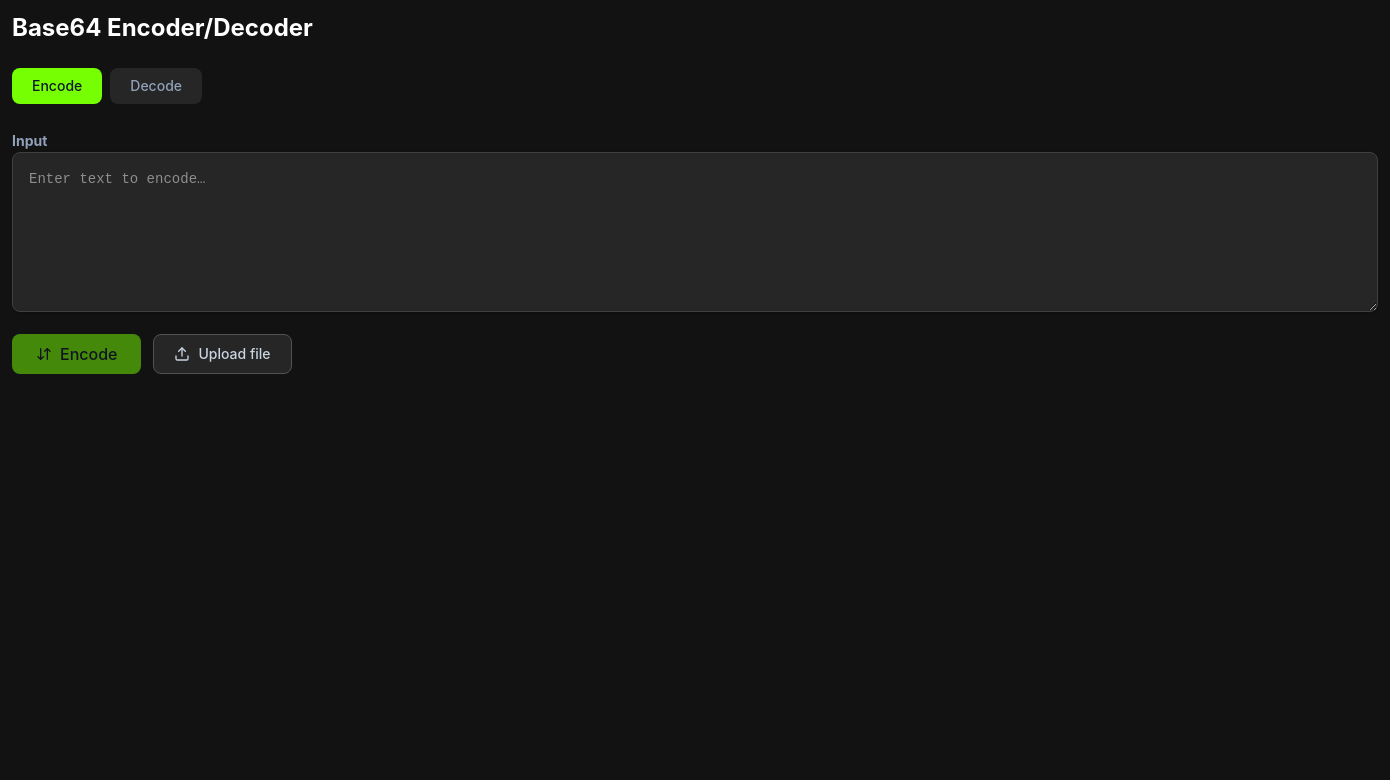
Base64Tool › handles text decoding and displays as text
Switch to decode tab (first button named "decode")
Click the button "decode": x=156, y=86 [110,68,202,104]
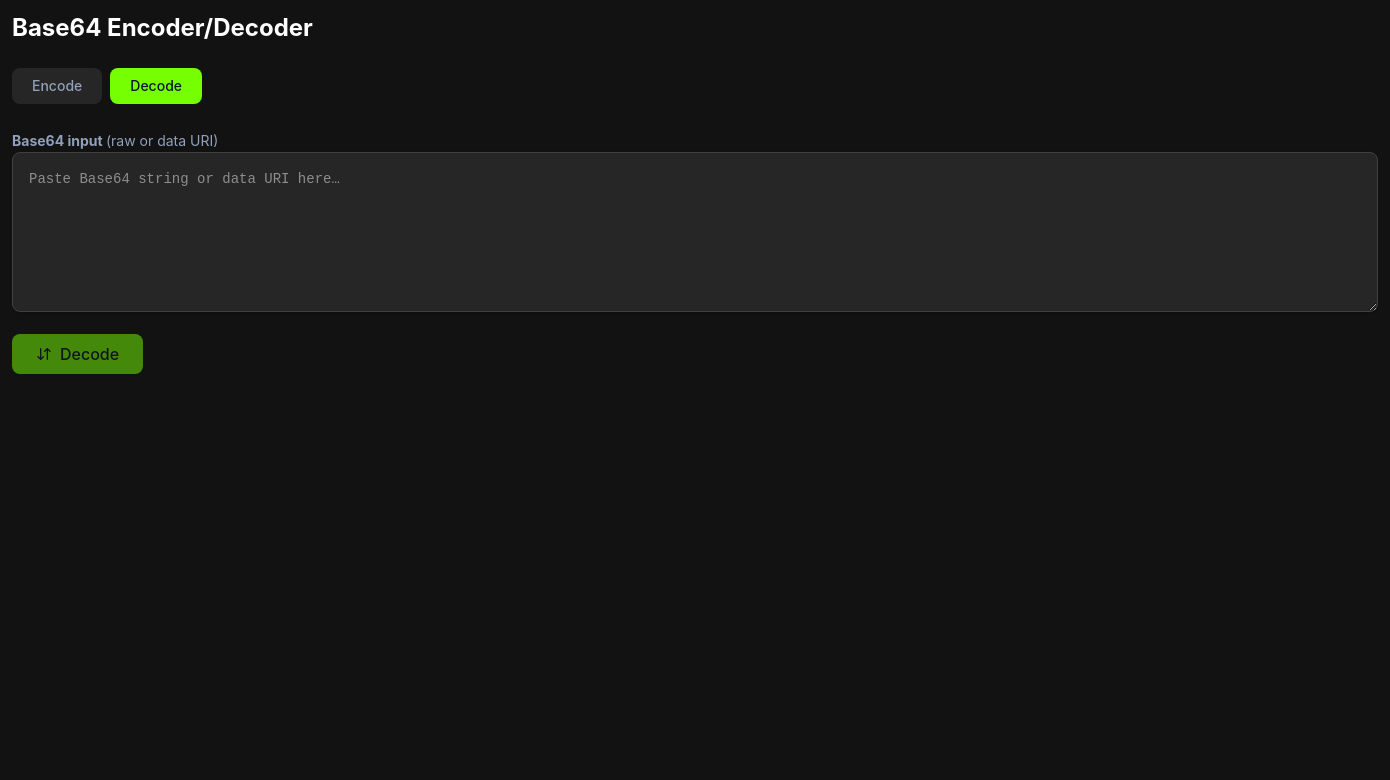
In the text box with placeholder "Paste Base64 string or data URI here…": x=695, y=232 [12,152,1378,312], type "aGVsbG8="
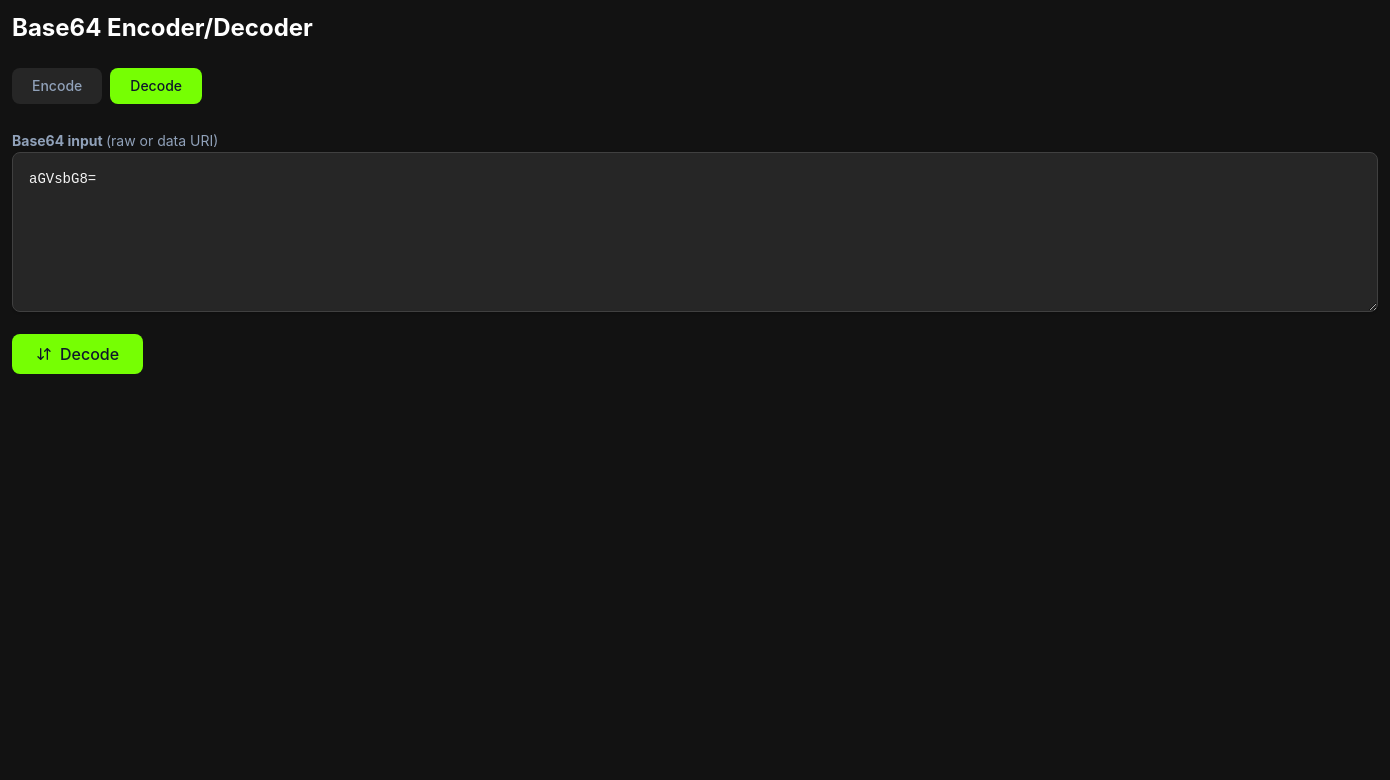
Click the button "Decode": x=78, y=354 [12,334,143,374]
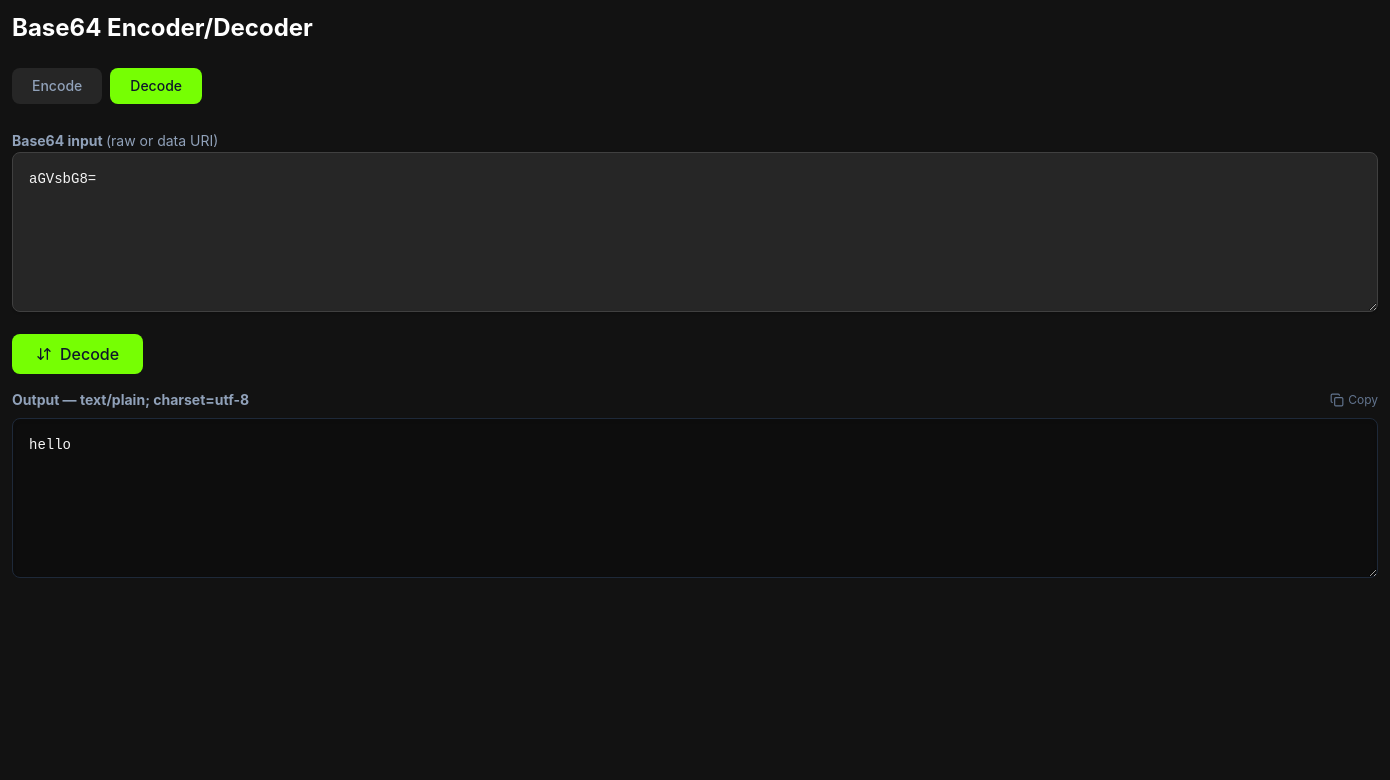
Expected: the text box showing "hello" below "Output —" is shown, [12,418,1378,578]
